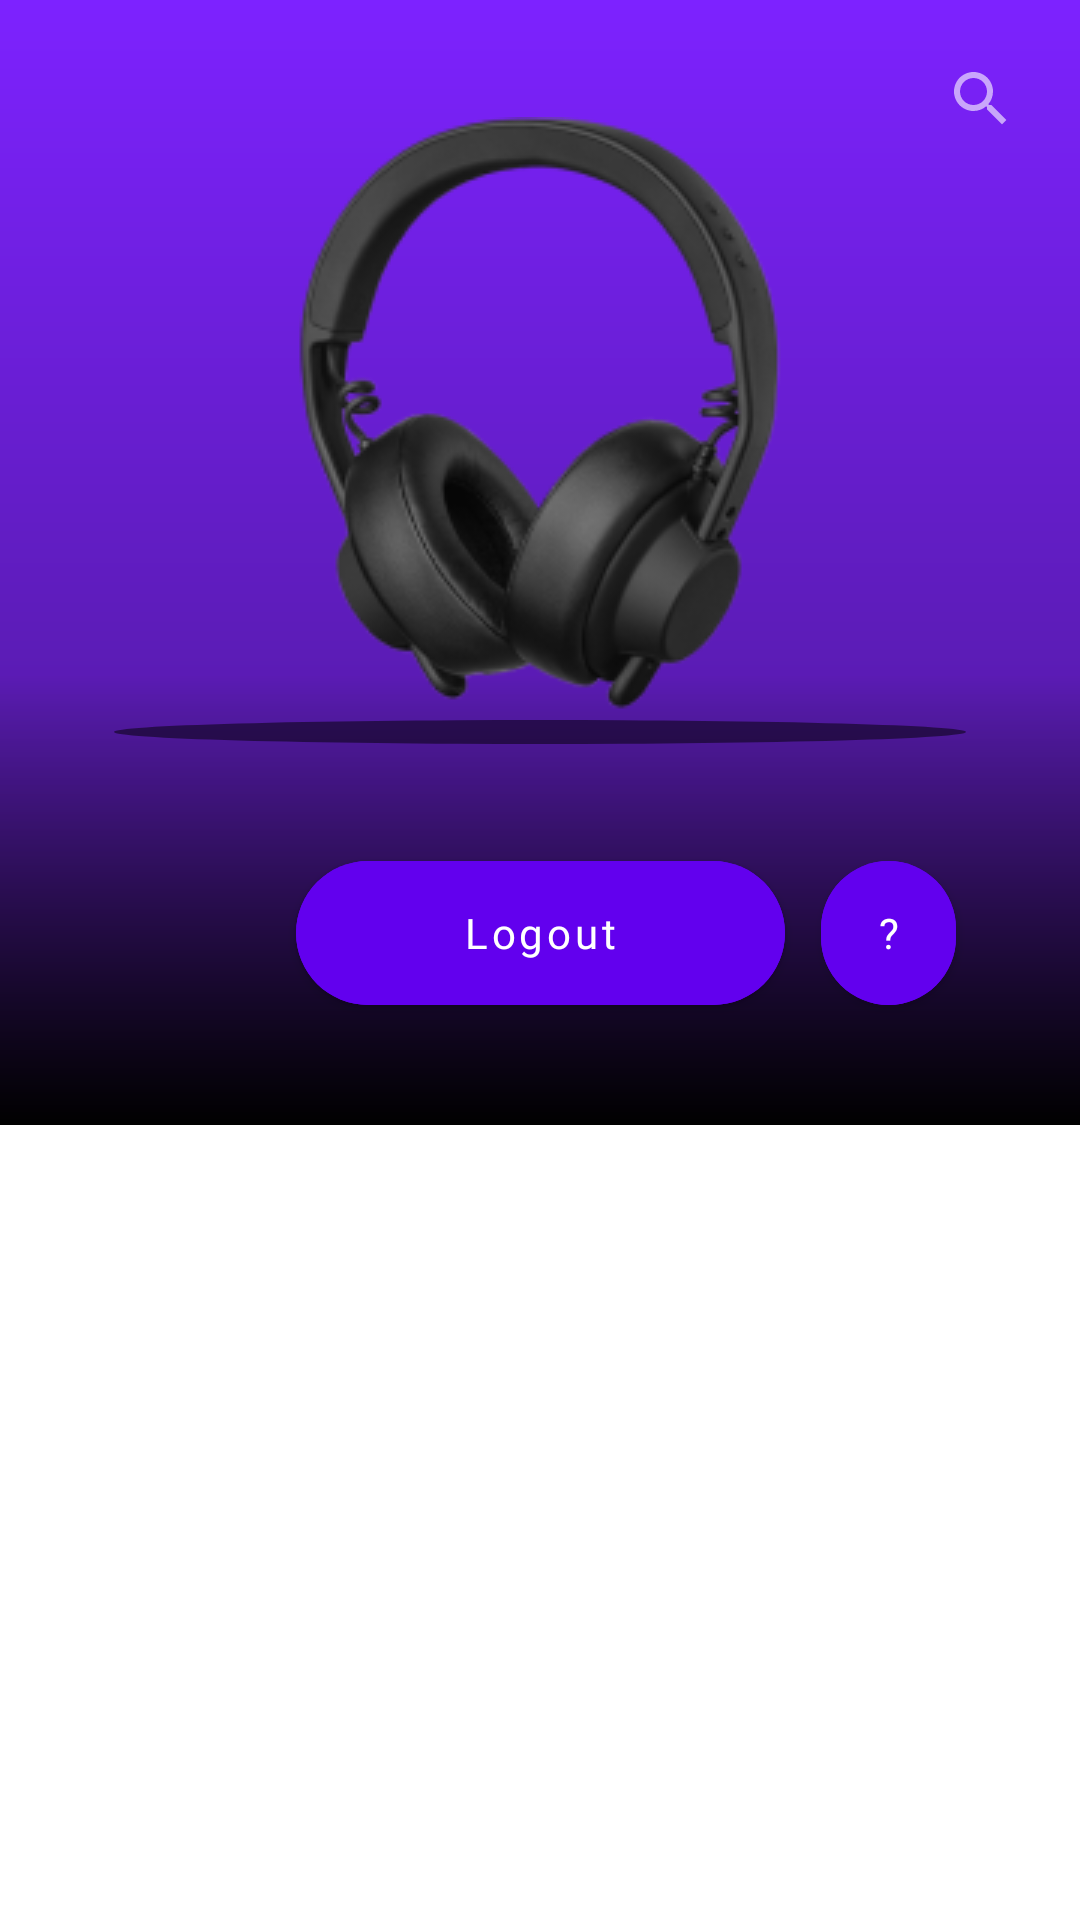

Where to tap for icons on this 1080x1920 app screen, as (x=x, y=y):
search: (x=980, y=98)
